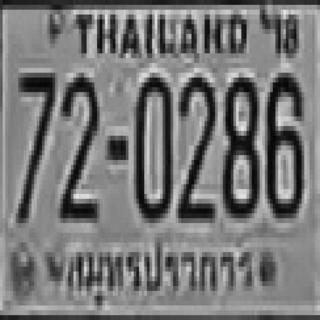N00: (134, 73, 171, 218)
N02: (58, 70, 97, 216), (177, 73, 214, 218)
N06: (265, 68, 302, 213)
N07: (16, 68, 52, 218)
N08: (220, 73, 257, 213)
P57: (63, 238, 258, 308)
